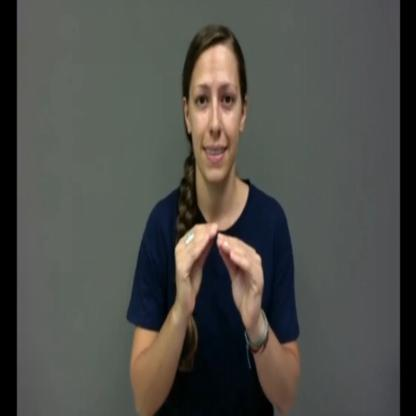Fix: (127, 20, 303, 416)
